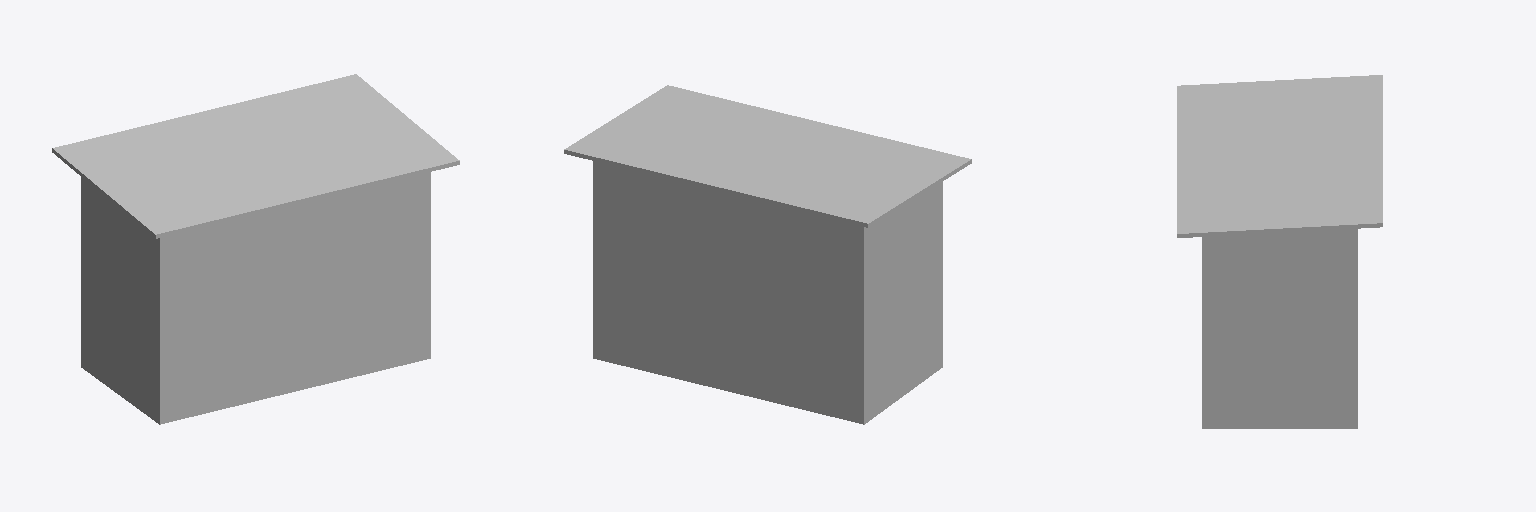
File: Shack01b.obj
3 renders of one model, left to right at view 1: azimuth 30°, elevation 25°; view 2: azimuth 150°, elevation 25°; view 3: azimuth 270°, elevation 25°, orthographic.
Parts seen in each view (by area): view 1: Shack01; view 2: Shack01, Shack01b.DoorRht, Shack01b.DoorLft; view 3: Shack01.
Part boxes in pixels (left/top/right/bottom): Shack01: left=52, top=74, right=459, bottom=424; Shack01: left=564, top=85, right=971, bottom=424; Shack01b.DoorRht: left=602, top=163, right=728, bottom=391; Shack01b.DoorLft: left=729, top=194, right=855, bottom=422; Shack01: left=1177, top=75, right=1382, bottom=428.
Bounding box in the file's own units: 5.96 × 4.01 × 3.51.